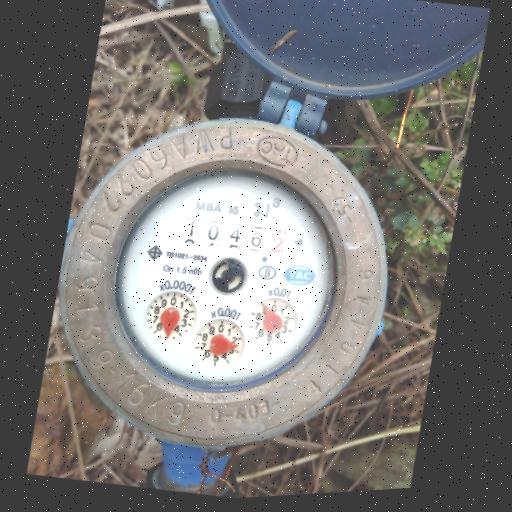0: (204, 219, 222, 248)
1: (182, 217, 200, 245)
2: (268, 227, 286, 255)
4: (226, 222, 243, 250)
6: (247, 224, 265, 252)
border_water_meter_number: (182, 212, 287, 260)
